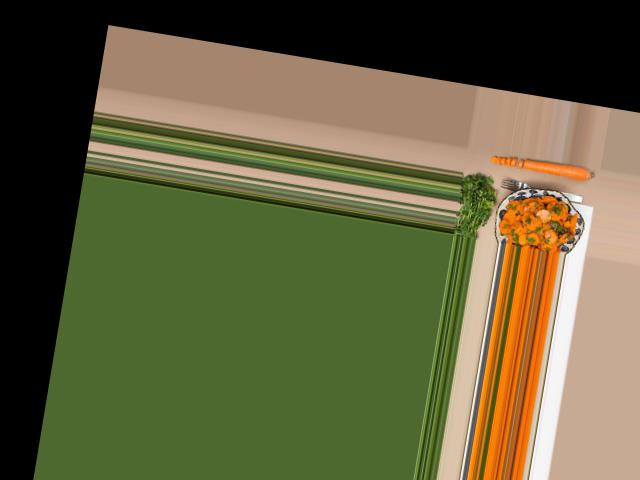carrot: (523, 155, 594, 180)
